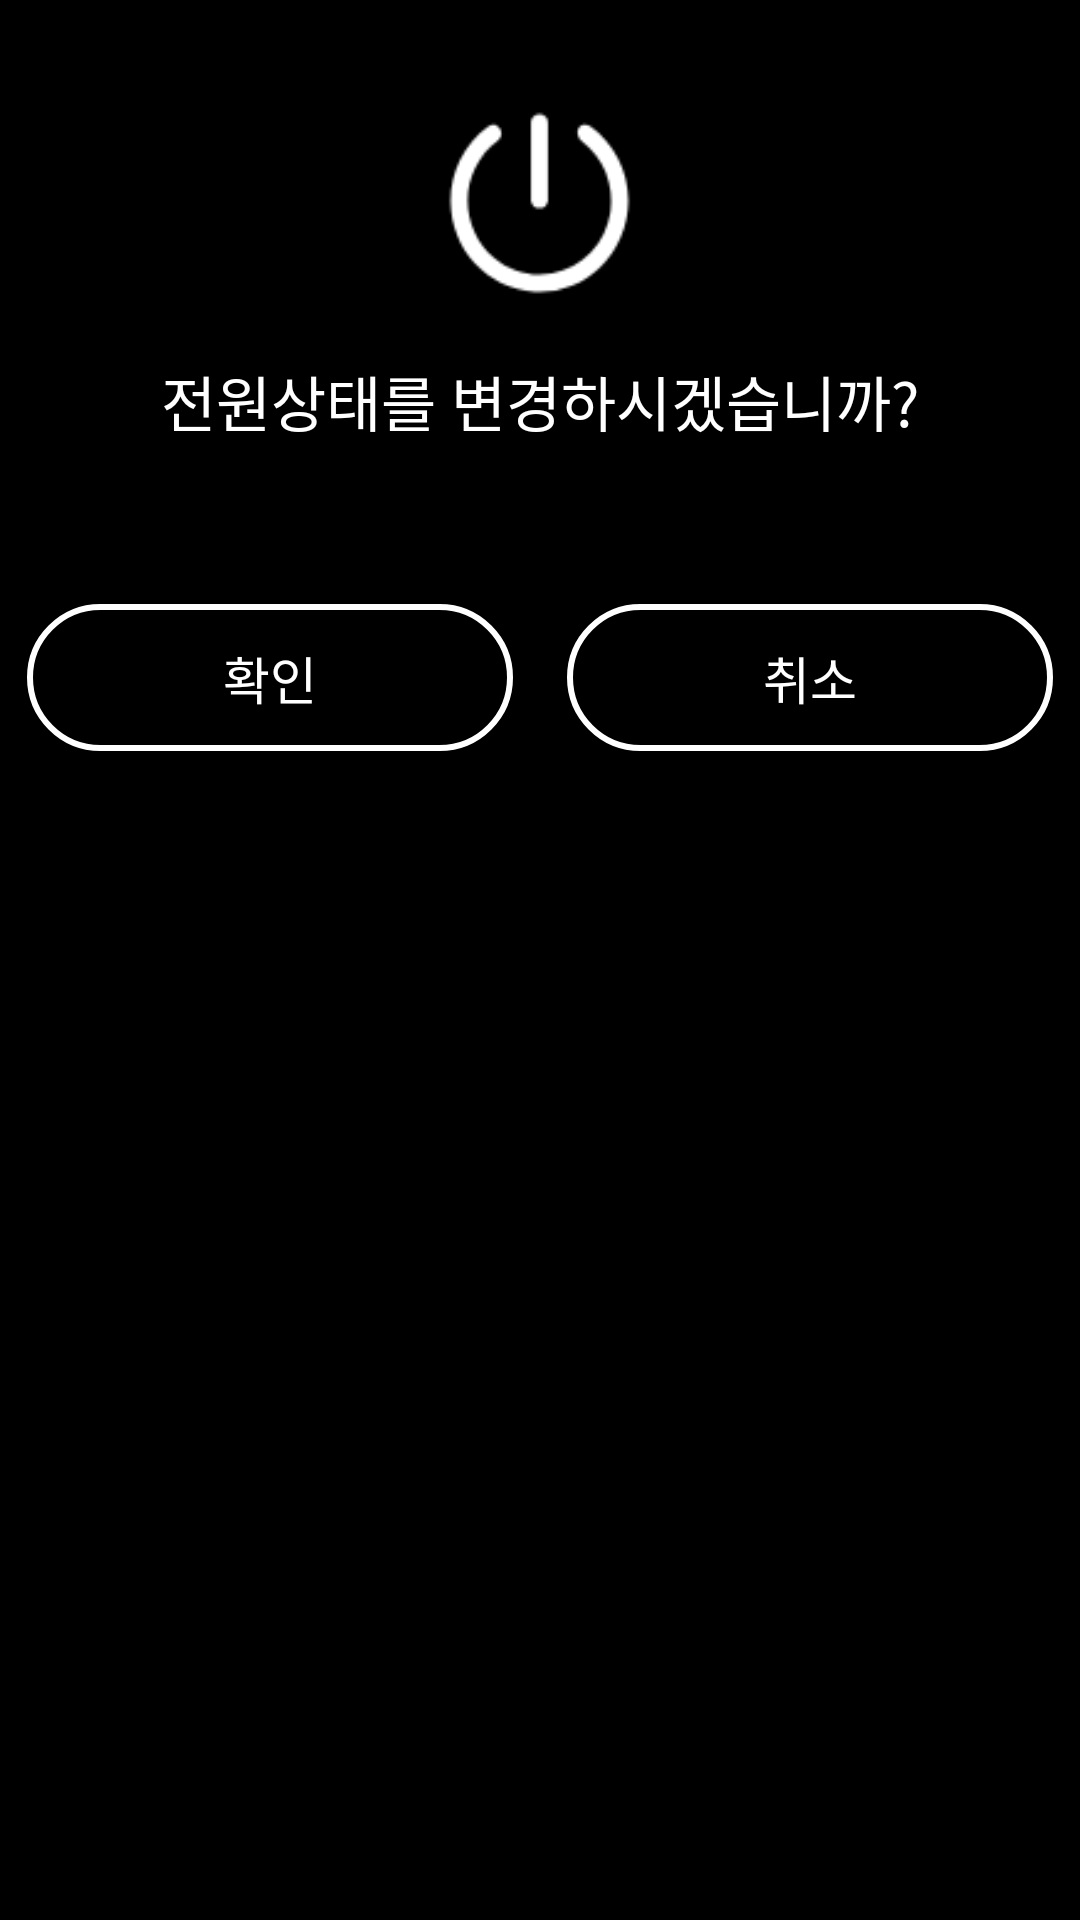

Icons on this 1080w x 1920h Android screen, each with the point to tap as point (x, y):
power: point (539, 203)
